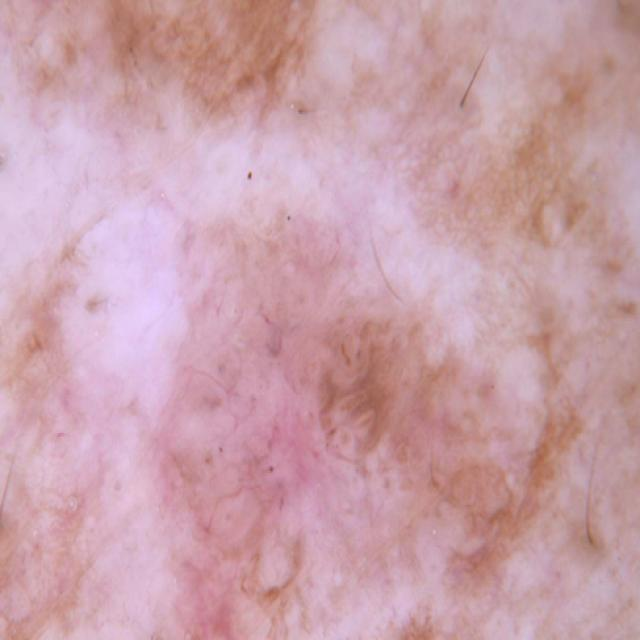Carcinoma: (95, 226, 574, 640)
